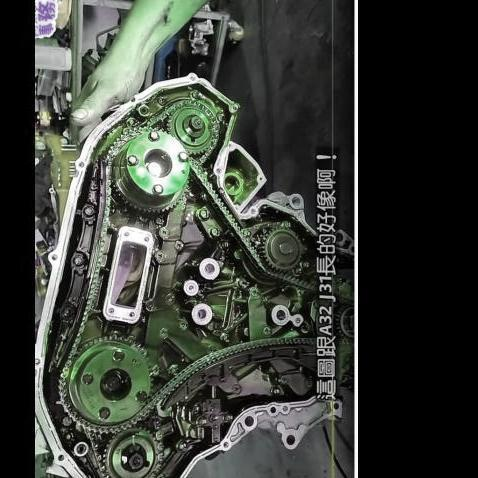hole: (195, 308, 207, 321), (203, 263, 215, 275), (275, 308, 287, 320), (229, 102, 240, 115), (75, 159, 85, 170), (280, 403, 288, 415), (187, 74, 197, 82), (56, 453, 64, 462), (214, 166, 222, 174), (292, 317, 300, 325), (186, 285, 194, 293), (222, 441, 229, 449), (49, 253, 57, 260), (248, 208, 256, 215), (257, 176, 264, 184), (225, 143, 234, 149)
